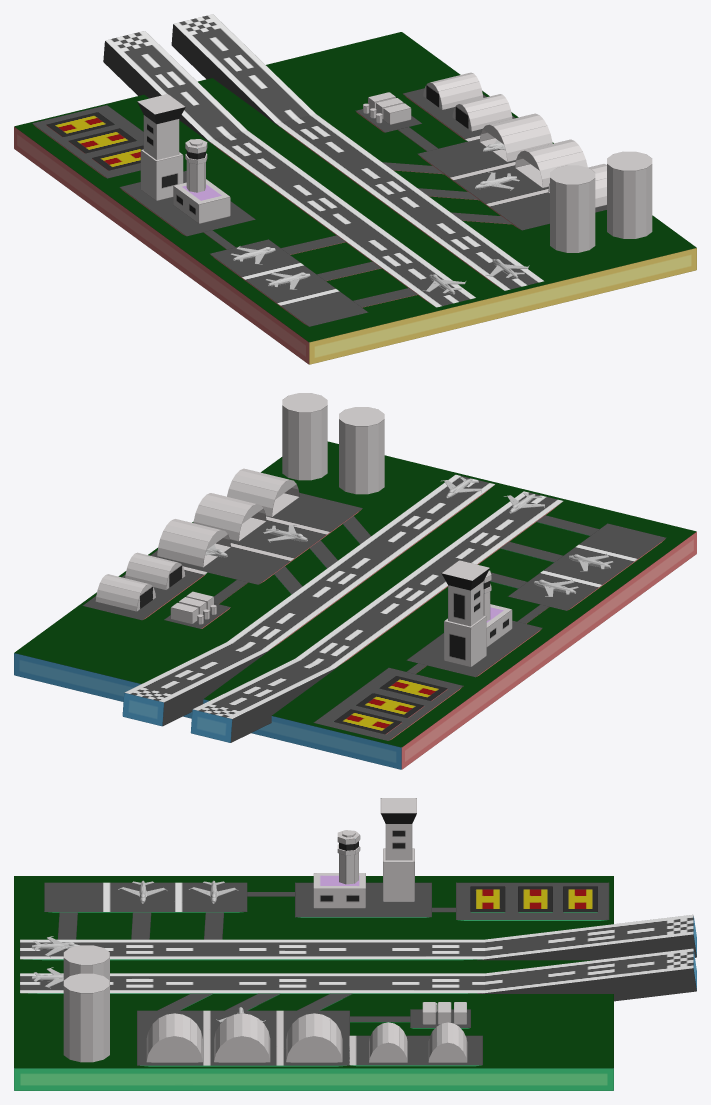
The model's file is Airport.obj.
The picture shows the model from 3 angles, top to bottom: view 1: azimuth 30°, elevation 25°; view 2: azimuth 150°, elevation 25°; view 3: azimuth 270°, elevation 25°; orthographic projection.
Parts seen in each view (by area): view 1: cuboid, cylinder, pyramid; view 2: cuboid, cylinder, pyramid; view 3: cuboid, cylinder, pyramid.
Boxes of the visible parts, x1,y1,x2,y2 form: cuboid: (14, 14, 696, 364); cylinder: (185, 72, 652, 293); pyramid: (137, 94, 185, 123); cuboid: (14, 441, 696, 769); cylinder: (95, 393, 610, 624); pyramid: (441, 560, 489, 590); cuboid: (14, 824, 696, 1090); cylinder: (33, 830, 467, 1062); pyramid: (380, 798, 416, 823).
Size of the model in its own units: 4.3 by 1.49 by 6.45.
Materials: 2 (1 with a texture image).
